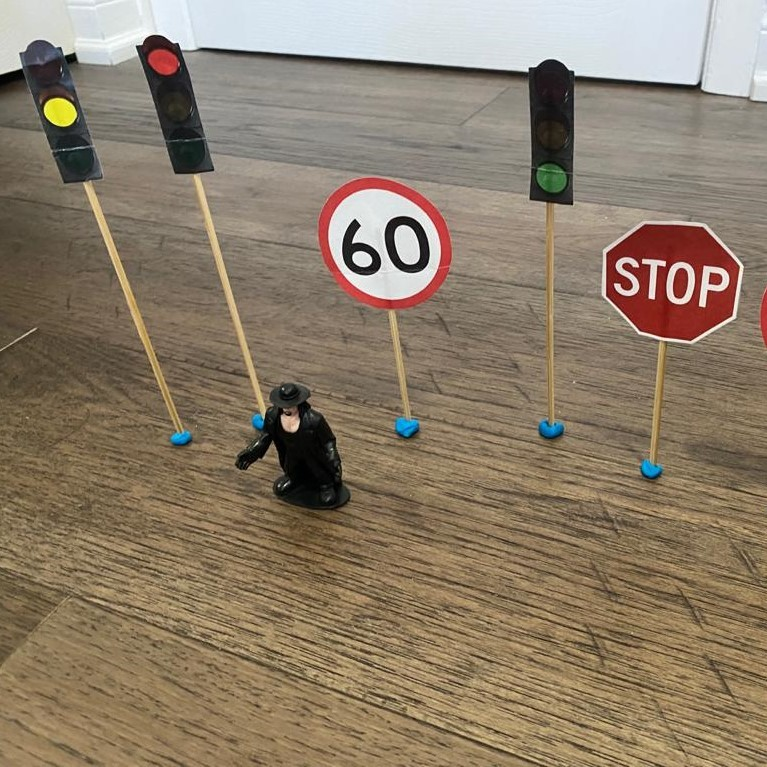Green Traffic Light: (524, 55, 582, 209)
Person: (232, 381, 355, 518)
Red Traffic Light: (124, 32, 215, 180)
Speed Limit 60: (314, 169, 454, 315)
Stop Sign: (596, 219, 746, 344)
Yellow Traffic Light: (10, 37, 111, 187)
